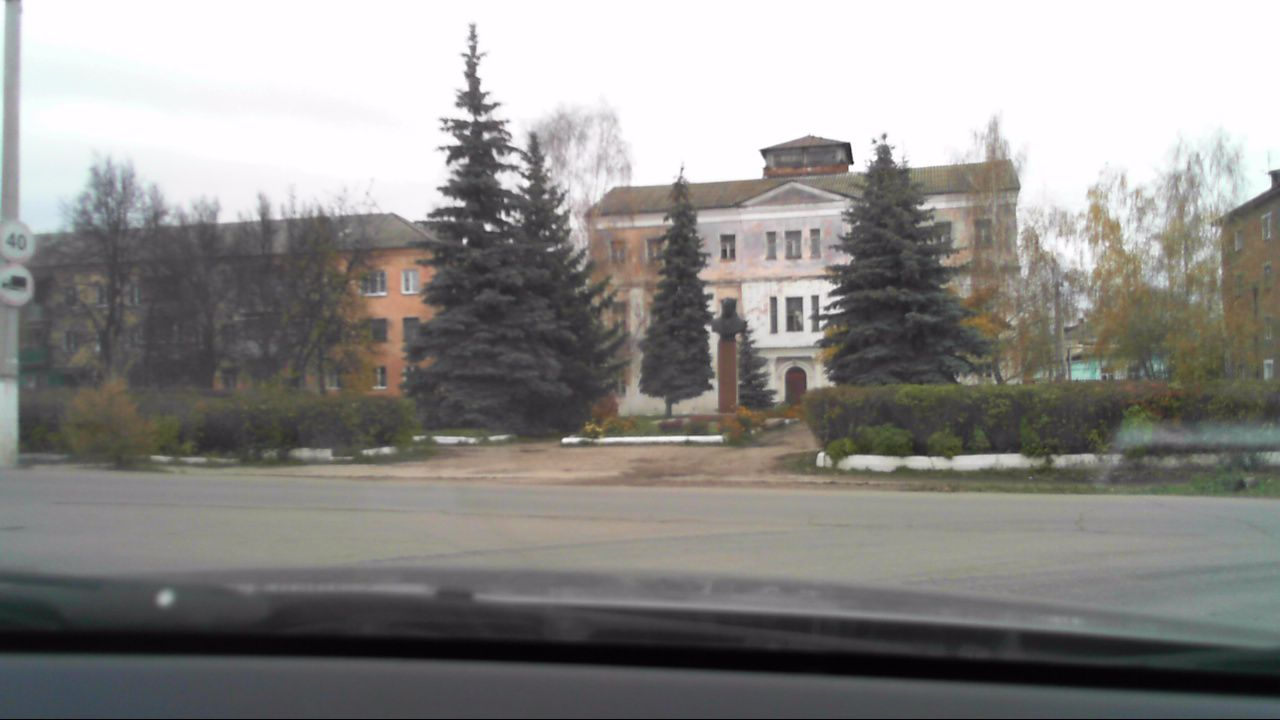speed_warning_40: (0, 218, 37, 266)
